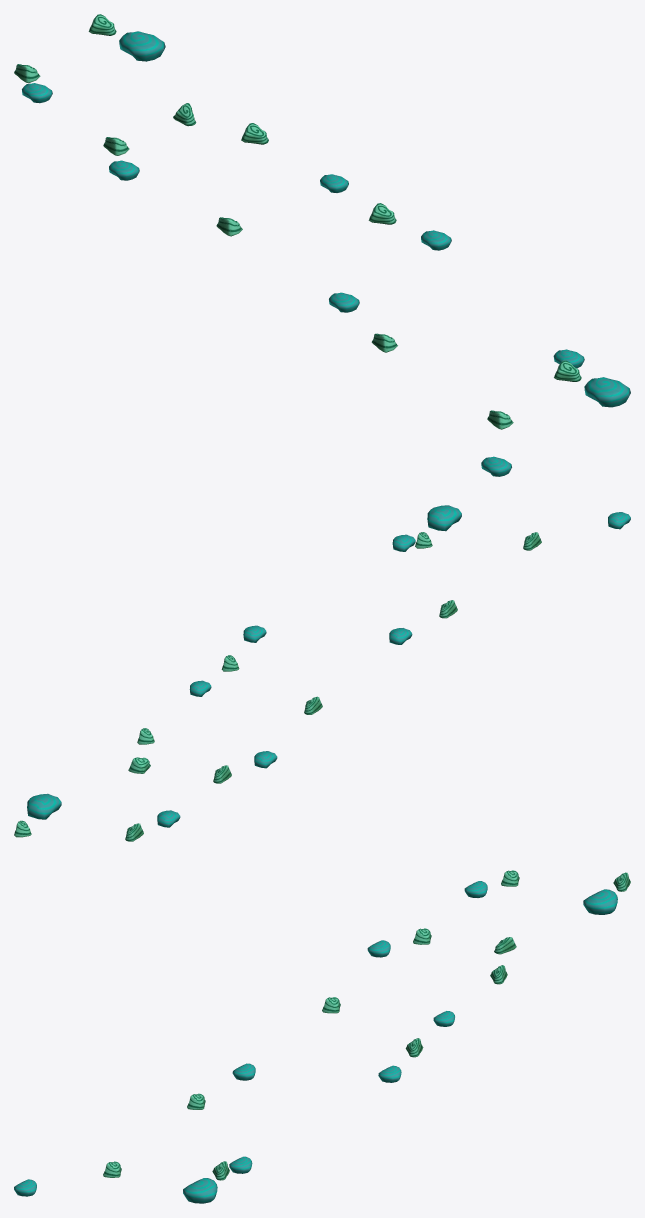
Rendered from stoneA.fbx.
3 views of the same model, one above another, from view 1: azimuth 30°, elevation 25°; view 2: azimuth 150°, elevation 25°; view 3: azimuth 330°, elevation 25° (orthographic). The views are drawn at different scales.
Visible parts, largest first — view 1: stoneA; view 2: stoneA; view 3: stoneA.
Boxes of the visible parts, x1=… form: stoneA: x1=14, y1=14, x2=630, y2=476; stoneA: x1=14, y1=505, x2=630, y2=841; stoneA: x1=14, y1=870, x2=630, y2=1203.
Bounding box in the file's own units: 949 × 71.84 × 4453.
